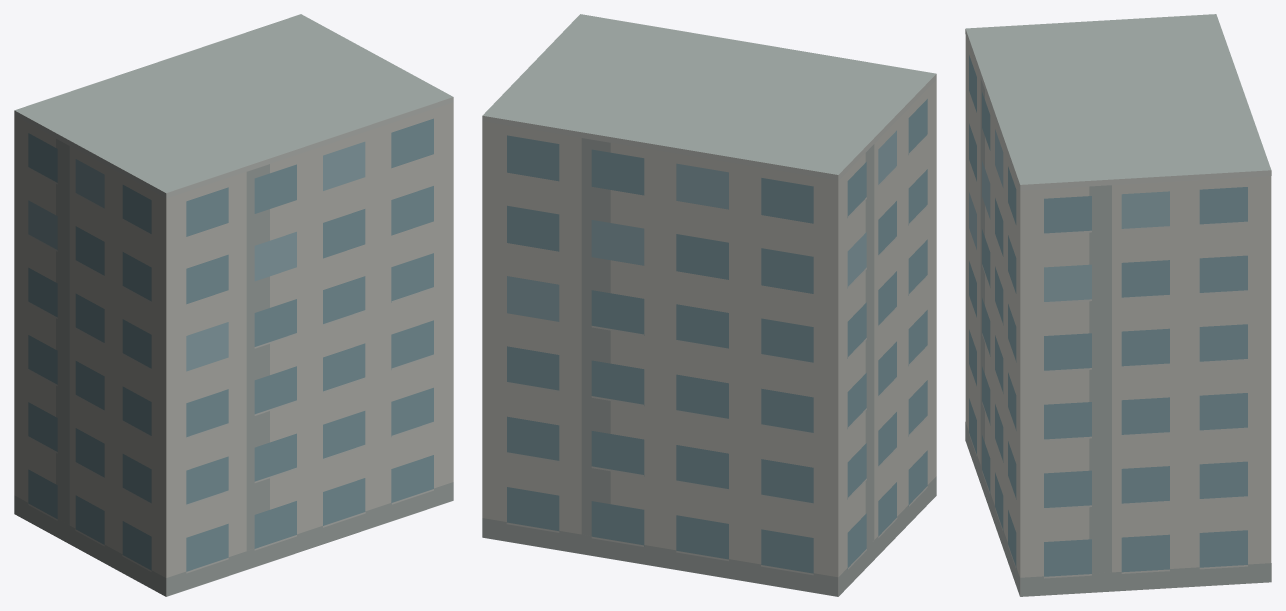
The model's file is survey-upis-32706775.glb.
The picture shows the model from 3 angles, left to right: view 1: azimuth 30°, elevation 25°; view 2: azimuth 150°, elevation 25°; view 3: azimuth 270°, elevation 25°; orthographic projection. The views are drawn at different scales.
Visible parts, largest first — view 1: survey-upis-32706775.tmp; view 2: survey-upis-32706775.tmp; view 3: survey-upis-32706775.tmp.
Part boxes in pixels (x1,y1,x2,y2): survey-upis-32706775.tmp: (14, 14, 453, 596); survey-upis-32706775.tmp: (482, 14, 936, 596); survey-upis-32706775.tmp: (965, 14, 1271, 596).
Bounding box in the file's own units: 15.93 × 17.9 × 12.06.
